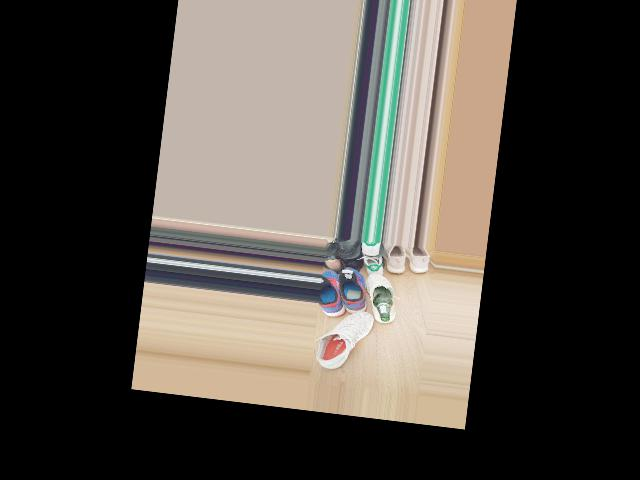beer: (370, 286, 395, 322)
